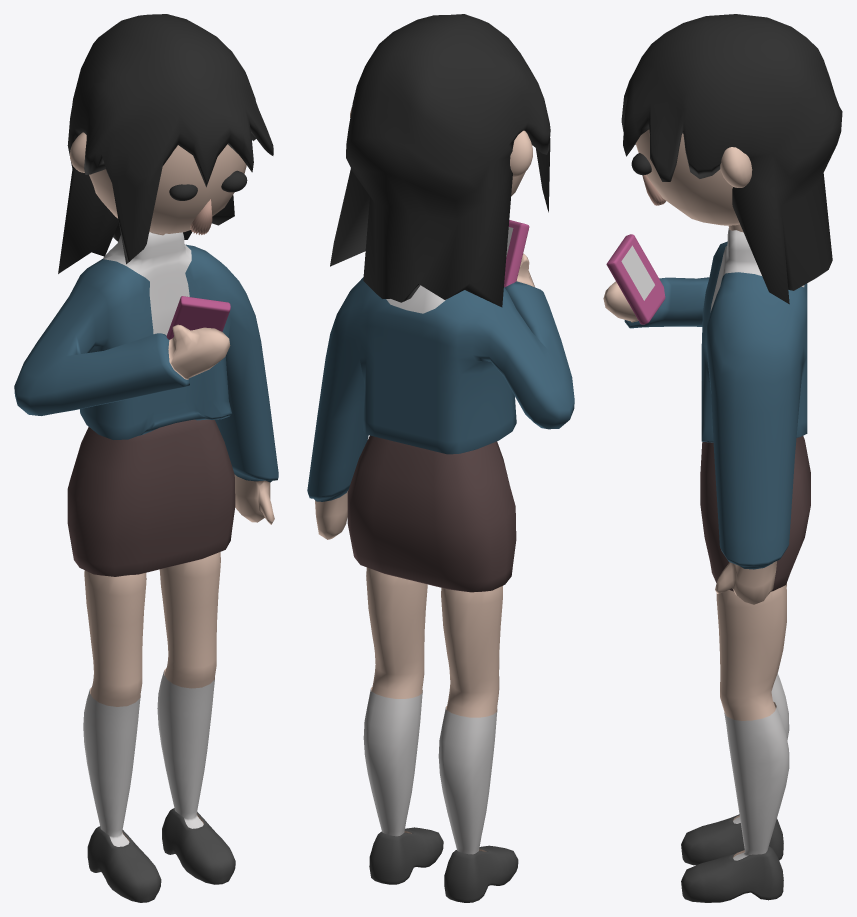
The model's file is standing NPC#2.fbx.
3 renders of one model, left to right at view 1: azimuth 30°, elevation 25°; view 2: azimuth 150°, elevation 25°; view 3: azimuth 270°, elevation 25°, orthographic.
Visible parts, largest first — view 1: pCube20, pCube28, polySurface26; view 2: pCube20, polySurface26, pCube28; view 3: polySurface26, pCube28, pCube20.
Part boxes in pixels (x1,y1,x2,y2): pCube20: (67,419,235,902); pCube28: (14,232,278,524); polySurface26: (58,14,273,273); pCube20: (347,435,518,902); polySurface26: (330,14,550,307); pCube28: (307,220,574,539); polySurface26: (621,14,842,304); pCube28: (603,228,807,604); pCube20: (681,436,810,902).
Size of the model in its own units: 12.76 by 40.43 by 10.19.
